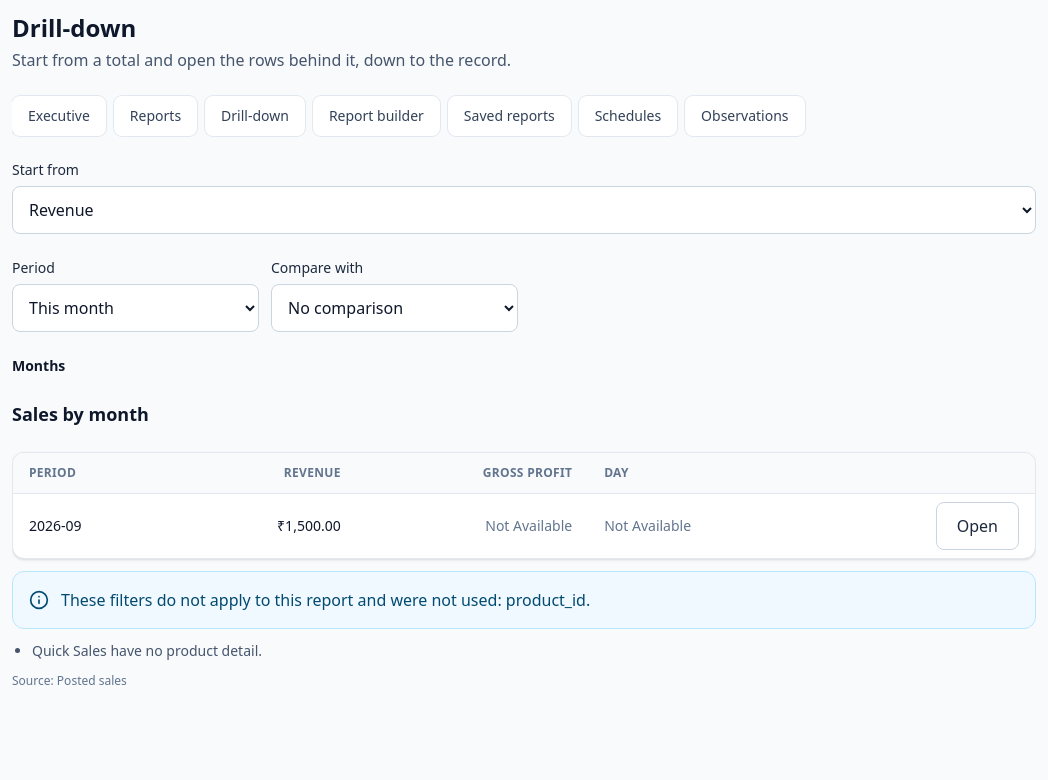
Scenario: drill-down › follows the drill link of a row to the next level and lets you step back
Expected: the heading "Sales by month" is shown, [12,402,149,426]
What coordinates should you click on to do the following:
click the button "Open"
I would click on:
 (977, 526)
Its box is [936,502,1019,550].
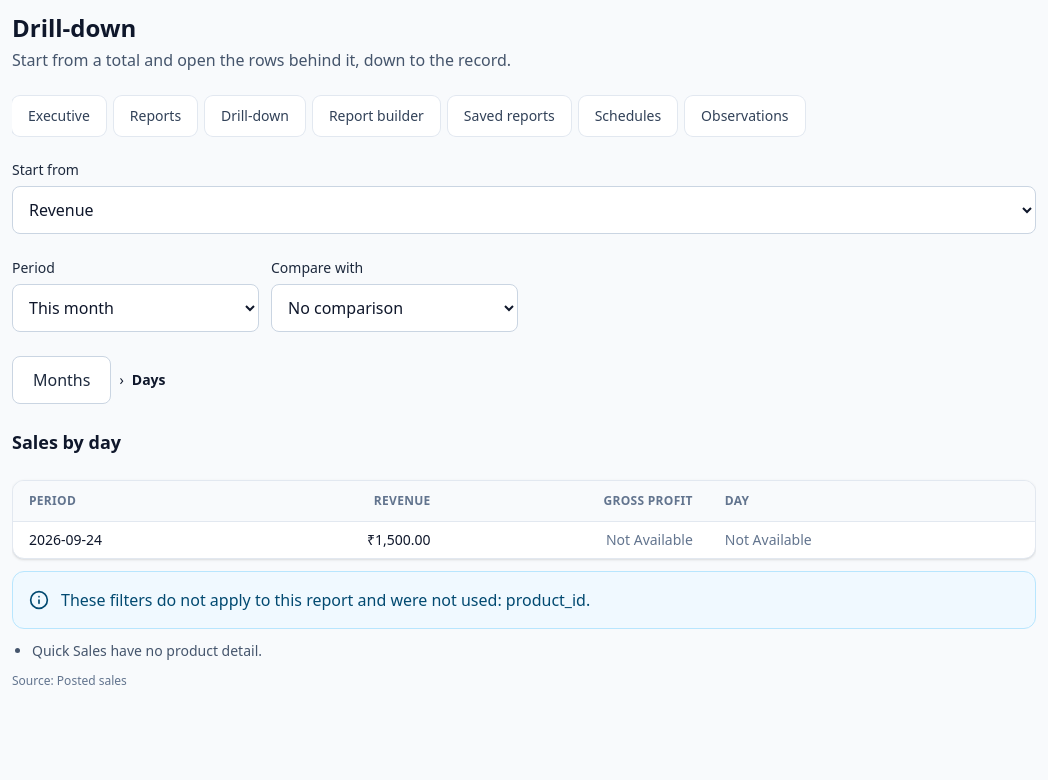
Now the heading "Sales by day" is shown, box [12,430,121,454]
What coordinates should you click on to do the following:
click the button "Months"
I would click on:
 (62, 380)
Its box is [12,356,111,404].
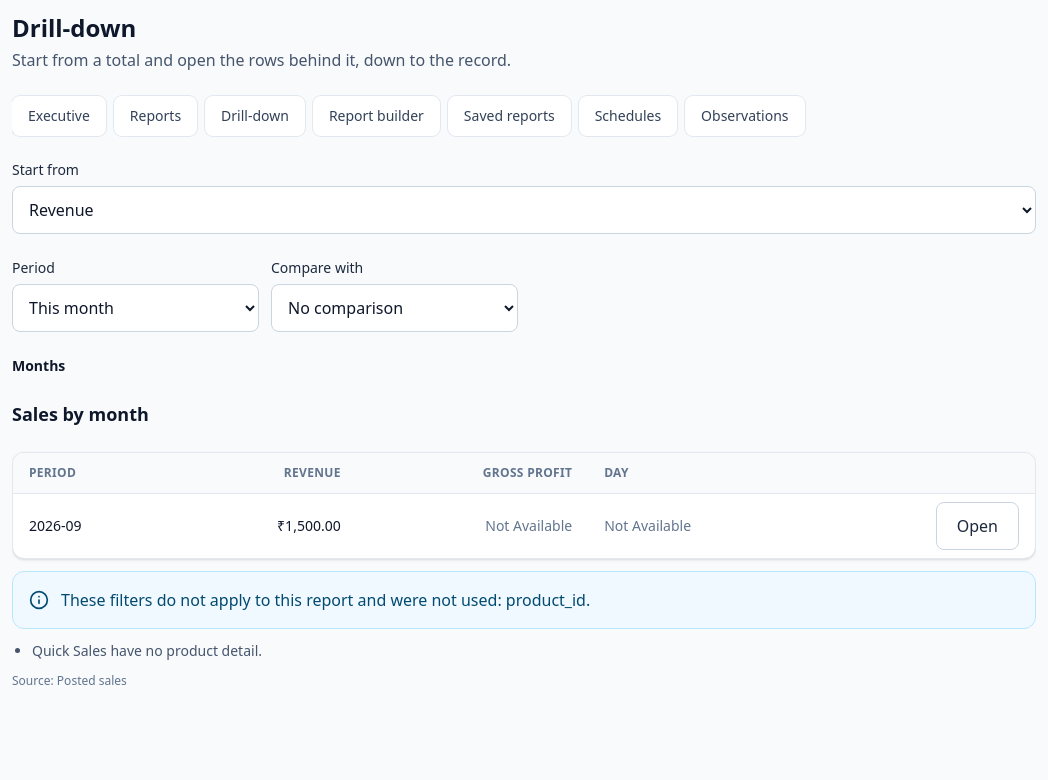
Now the heading "Sales by month" is shown, box [12,402,149,426]
